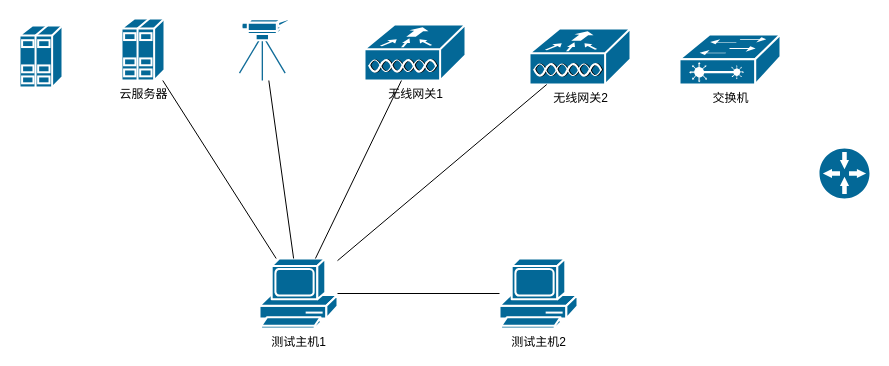
This 889x366 diagram has some shape labels left out. The shapes that lost their labels are listed below. From the top down, each one's centre as x and y in pixels, then its label:
the point at 40,56: 服务主机
the point at 264,49: 摄像头
the point at 844,173: AIPID网关
